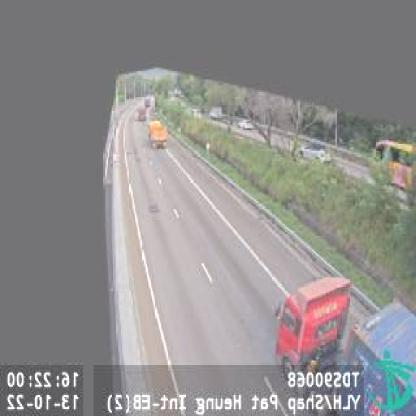Bus: (372, 135, 414, 189)
Car: (298, 142, 330, 164)
Truck: (275, 270, 416, 416), (147, 121, 166, 151)
